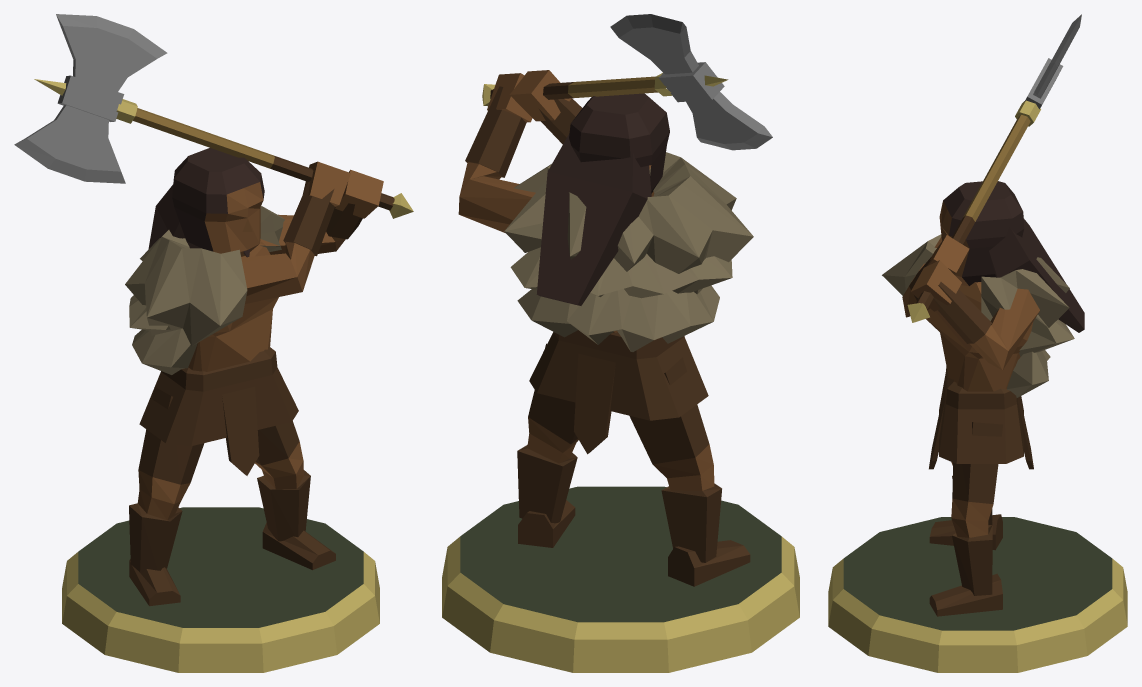
The model's file is barbarian-miniature-983b18.glb.
3 views of the same model, side by side, from view 1: azimuth 30°, elevation 25°; view 2: azimuth 150°, elevation 25°; view 3: azimuth 270°, elevation 25° (orthographic). The views are drawn at different scales.
Visible parts, largest first — view 1: barbarian-miniature-mesh; view 2: barbarian-miniature-mesh; view 3: barbarian-miniature-mesh.
Part boxes in pixels (left/top/right/bottom): barbarian-miniature-mesh: left=14, top=14, right=413, bottom=672; barbarian-miniature-mesh: left=442, top=14, right=799, bottom=672; barbarian-miniature-mesh: left=828, top=14, right=1127, bottom=672.
Size of the model in its own units: 0.0289 by 0.0485 by 0.0241.
